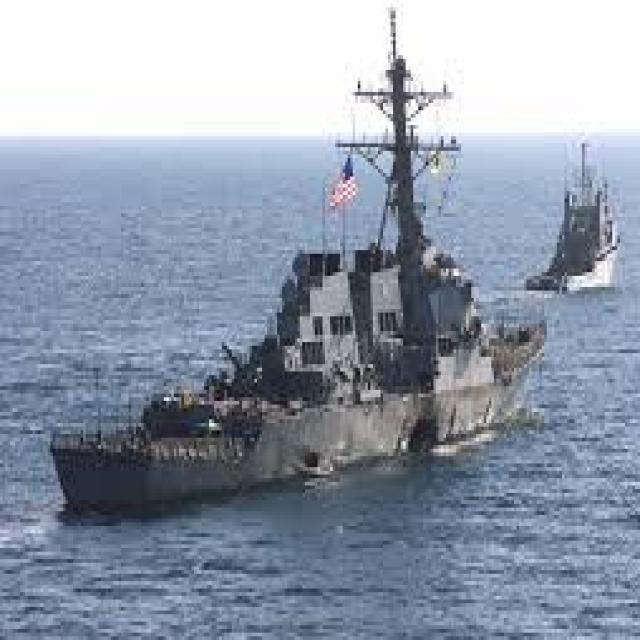navalvessels: (47, 44, 543, 516), (535, 148, 616, 308)
